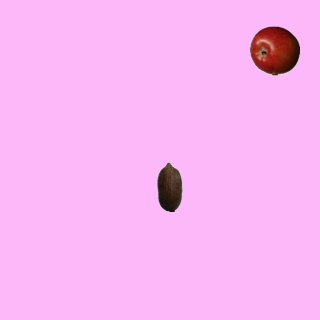Apple Braeburn: (249, 25, 299, 75)
Nut Pecan: (144, 161, 194, 211)
